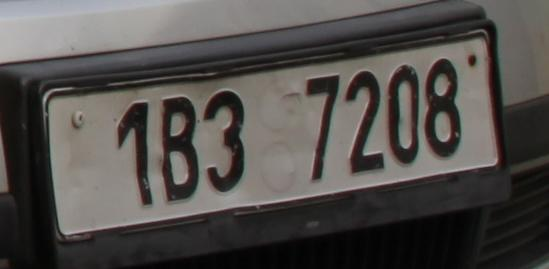0: (388, 66, 419, 163)
1: (117, 101, 153, 206)
2: (347, 71, 383, 171)
3: (204, 92, 244, 191)
7: (306, 77, 339, 180)
8: (426, 60, 461, 155)
B: (160, 95, 194, 201)
